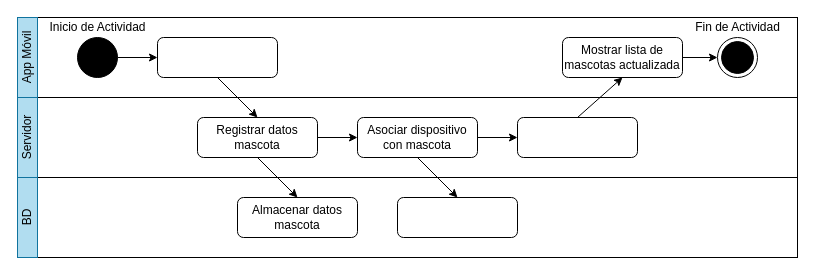
The diagram is 815 pixels wide and 275 high, and some of its shapes have lost their labels. The shapes that lost their labels are listed below. From the top down, each one's centre as x and y in pixels, then its label:
(x=217, y=57): Ingresar datos de mascota
(x=577, y=137): Generar QR
(x=457, y=217): Almacenar datos asociación
